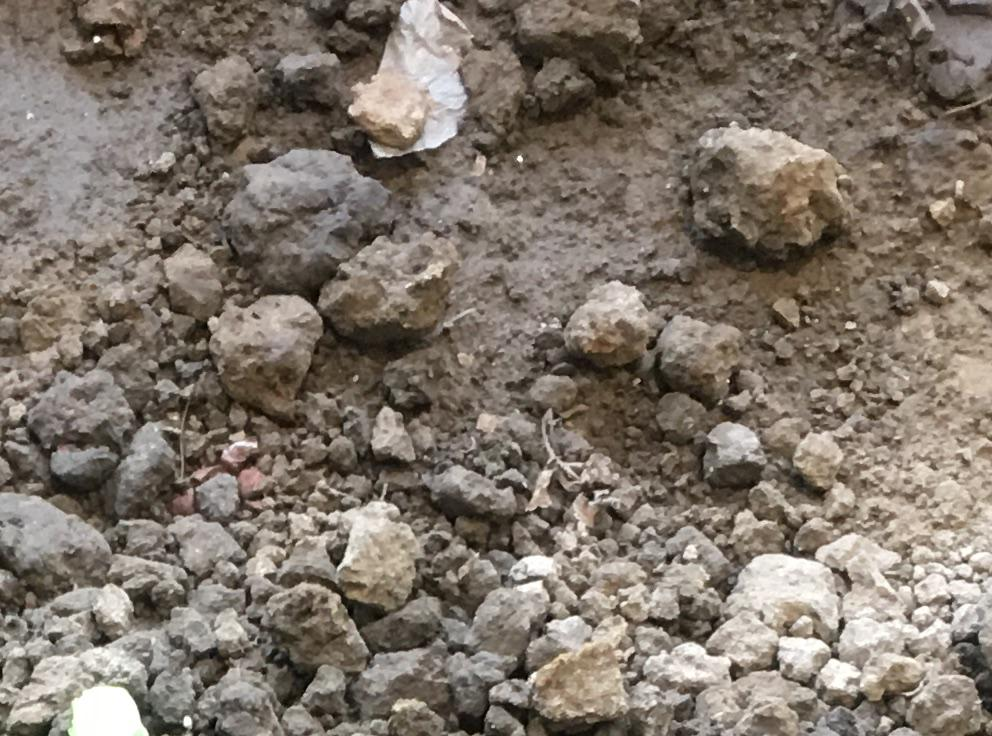block: (223, 147, 387, 285), (693, 128, 852, 265), (211, 293, 317, 417), (325, 236, 451, 336), (27, 373, 137, 480), (1, 491, 104, 592), (260, 582, 368, 672), (523, 643, 629, 725), (655, 310, 739, 410), (565, 279, 647, 370), (338, 514, 415, 610)
